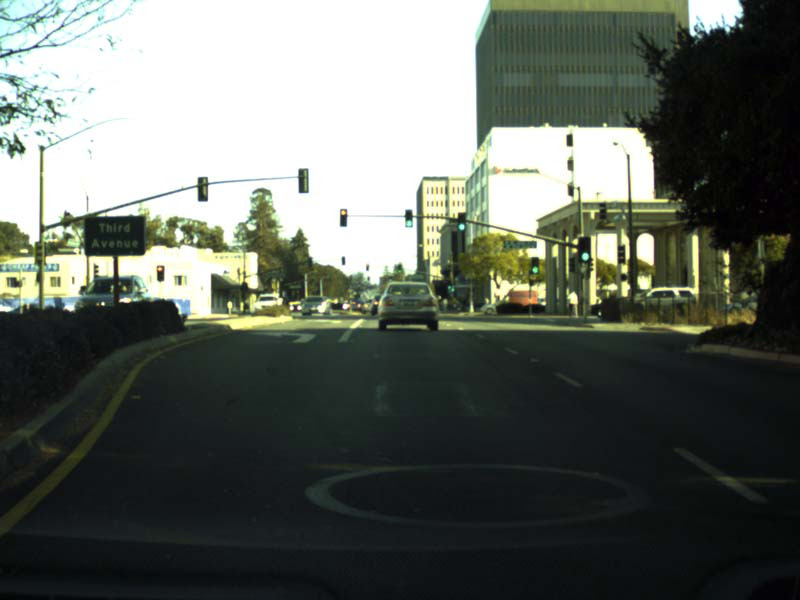Green: (578, 237, 590, 261), (529, 257, 541, 275), (456, 212, 466, 228), (404, 209, 413, 226), (398, 265, 401, 273)
Red: (156, 265, 164, 282), (340, 209, 346, 226), (365, 263, 368, 270)
